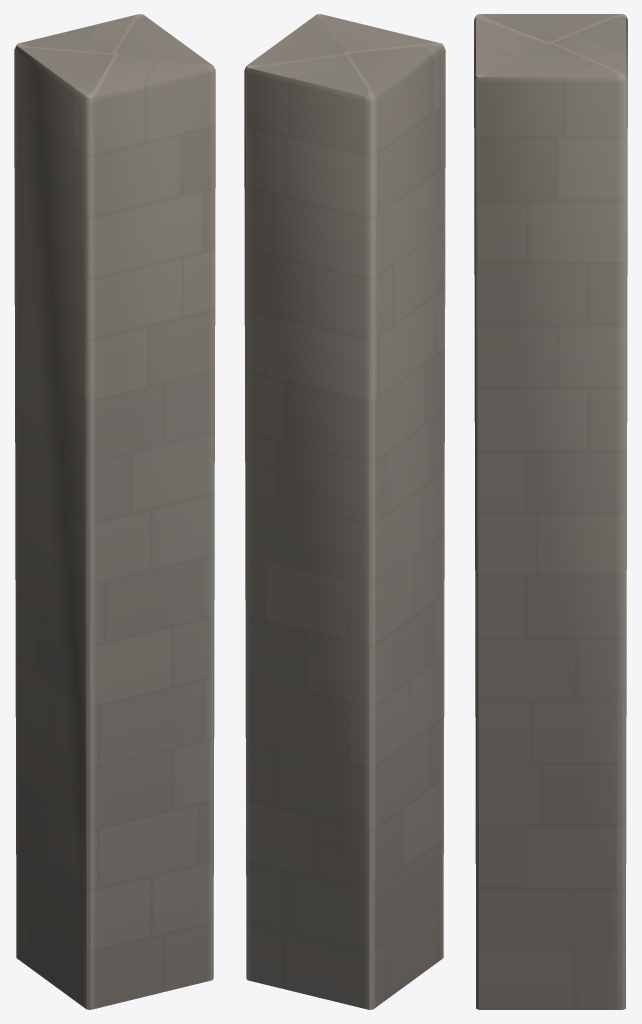
File: ext_10x10.glb
3 views of the same model, side by side, from view 1: azimuth 30°, elevation 25°; view 2: azimuth 150°, elevation 25°; view 3: azimuth 270°, elevation 25° (orthographic). The views are drawn at different scales.
Visible parts, largest first — view 1: ext_10x10.001; view 2: ext_10x10.001; view 3: ext_10x10.001.
Boxes of the visible parts, <box> form: ext_10x10.001: <box>14,14,215,1009</box>; ext_10x10.001: <box>244,14,445,1009</box>; ext_10x10.001: <box>474,14,627,1009</box>.
Bounding box in the file's own units: 5.95 × 40 × 5.95.
1 material, 1 textured.
